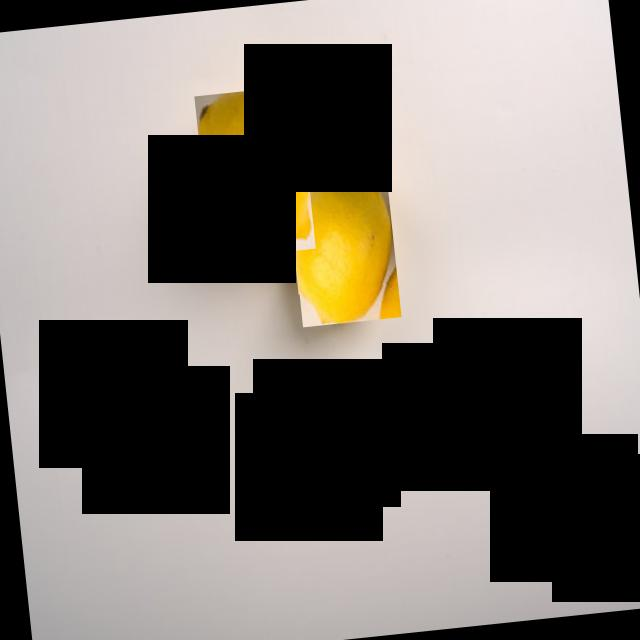lemon: (194, 85, 315, 258), (284, 161, 400, 327)
